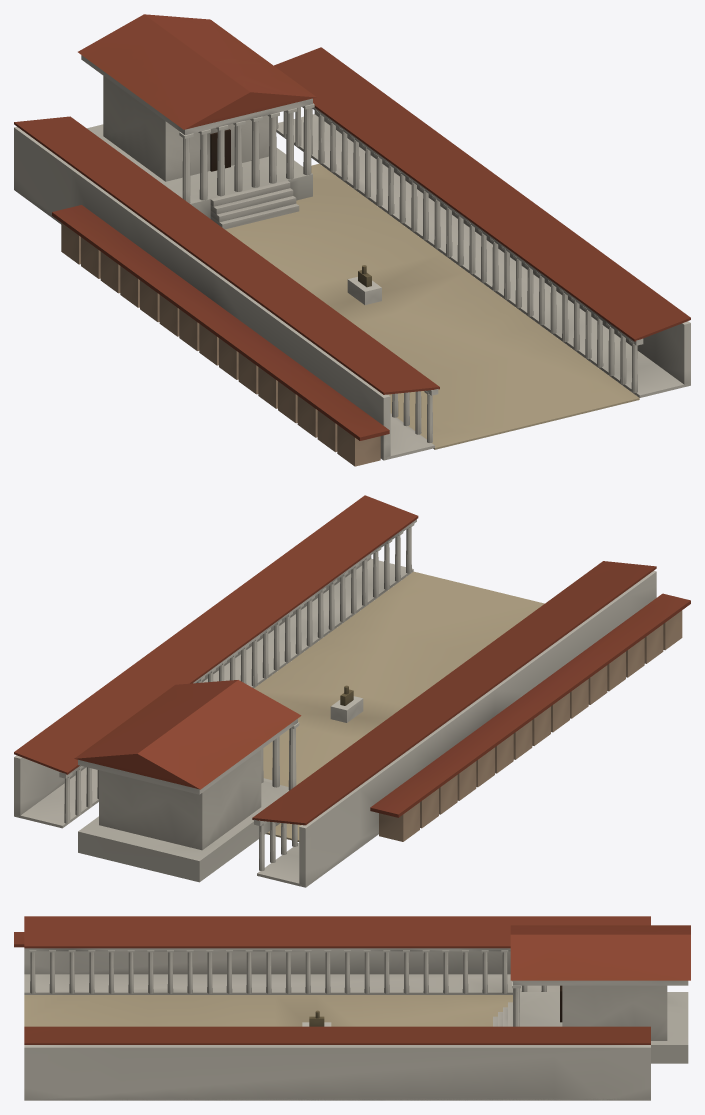
The model's file is forum-of-caesar.glb.
3 renders of one model, top to bottom at view 1: azimuth 30°, elevation 25°; view 2: azimuth 150°, elevation 25°; view 3: azimuth 270°, elevation 25°, orthographic. The views are drawn at different scales.
Parts seen in each view (by area): view 1: p2_stage2, p1_shops, p0_plaza; view 2: p2_stage2, p1_shops, p0_plaza; view 3: p1_shops, p2_stage2, p0_plaza.
Part boxes in pixels (x1=…): p2_stage2: x1=14, y1=14, x2=690, y2=440; p1_shops: x1=14, y1=76, x2=690, y2=466; p0_plaza: x1=225, y1=163, x2=639, y2=449; p2_stage2: x1=14, y1=495, x2=690, y2=825; p1_shops: x1=14, y1=519, x2=682, y2=887; p0_plaza: x1=254, y1=571, x2=544, y2=841; p1_shops: x1=24, y1=948, x2=688, y2=1100; p2_stage2: x1=14, y1=916, x2=690, y2=1044; p0_plaza: x1=24, y1=995, x2=512, y2=1026.
Bounding box in the file's own units: 79 × 27.47 × 162.
